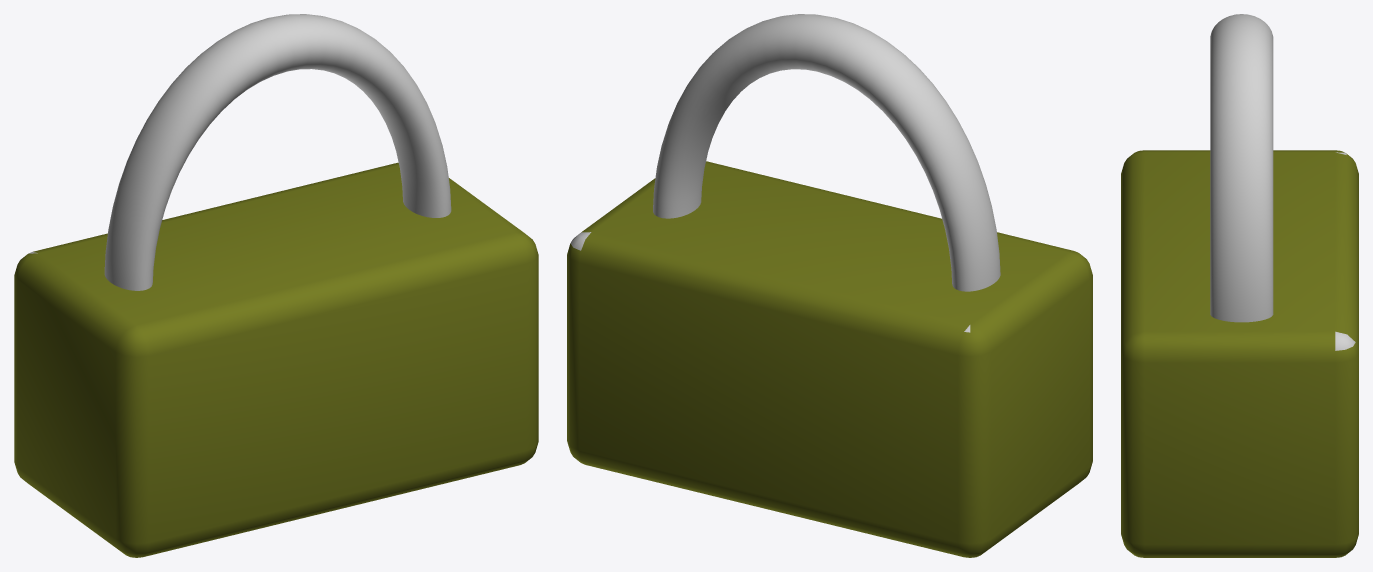
The model's file is Candado.fbx.
3 views of the same model, side by side, from view 1: azimuth 30°, elevation 25°; view 2: azimuth 150°, elevation 25°; view 3: azimuth 270°, elevation 25° (orthographic). The views are drawn at different scales.
Visible parts, largest first — view 1: Candado; view 2: Candado; view 3: Candado.
Part boxes in pixels (left/top/right/bottom): Candado: left=14, top=14, right=538, bottom=557; Candado: left=567, top=14, right=1092, bottom=557; Candado: left=1121, top=14, right=1358, bottom=557.
Size of the model in its own units: 12.99 by 13.37 by 6.56.
